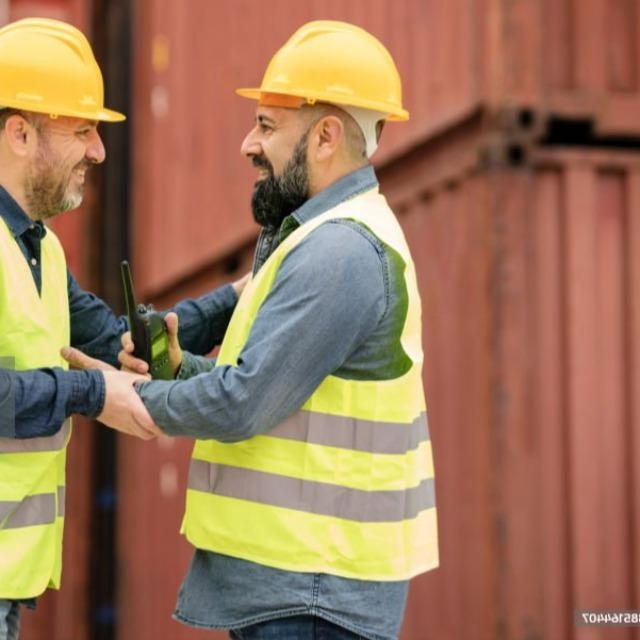Con_Casco: (234, 20, 405, 228)
Con_Chaleco: (178, 202, 436, 574), (0, 218, 89, 599)
